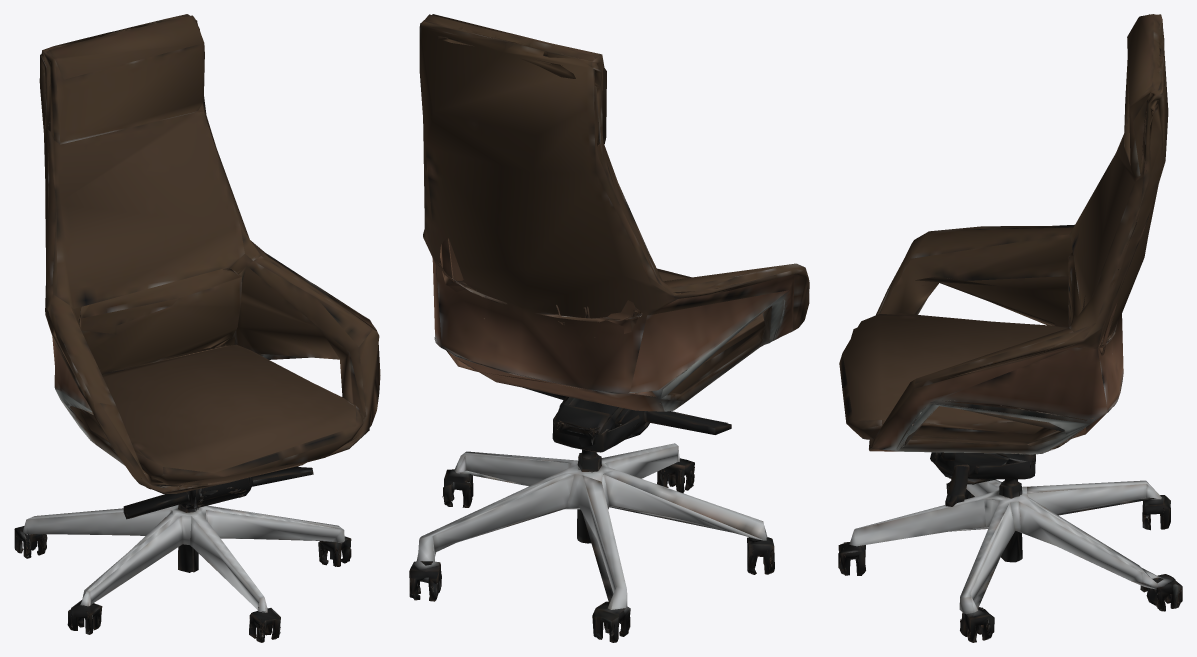
File: manager-chair.glb
3 views of the same model, side by side, from view 1: azimuth 30°, elevation 25°; view 2: azimuth 150°, elevation 25°; view 3: azimuth 270°, elevation 25° (orthographic). The views are drawn at different scales.
Parts seen in each view (by area): view 1: geometry_0; view 2: geometry_0; view 3: geometry_0.
Part boxes in pixels (x1=…): geometry_0: x1=14, y1=14, x2=380, y2=642; geometry_0: x1=409, y1=14, x2=809, y2=642; geometry_0: x1=838, y1=14, x2=1182, y2=642.
Size of the model in its own units: 0.6051 by 1 by 0.5981.
1 material, 1 textured.
